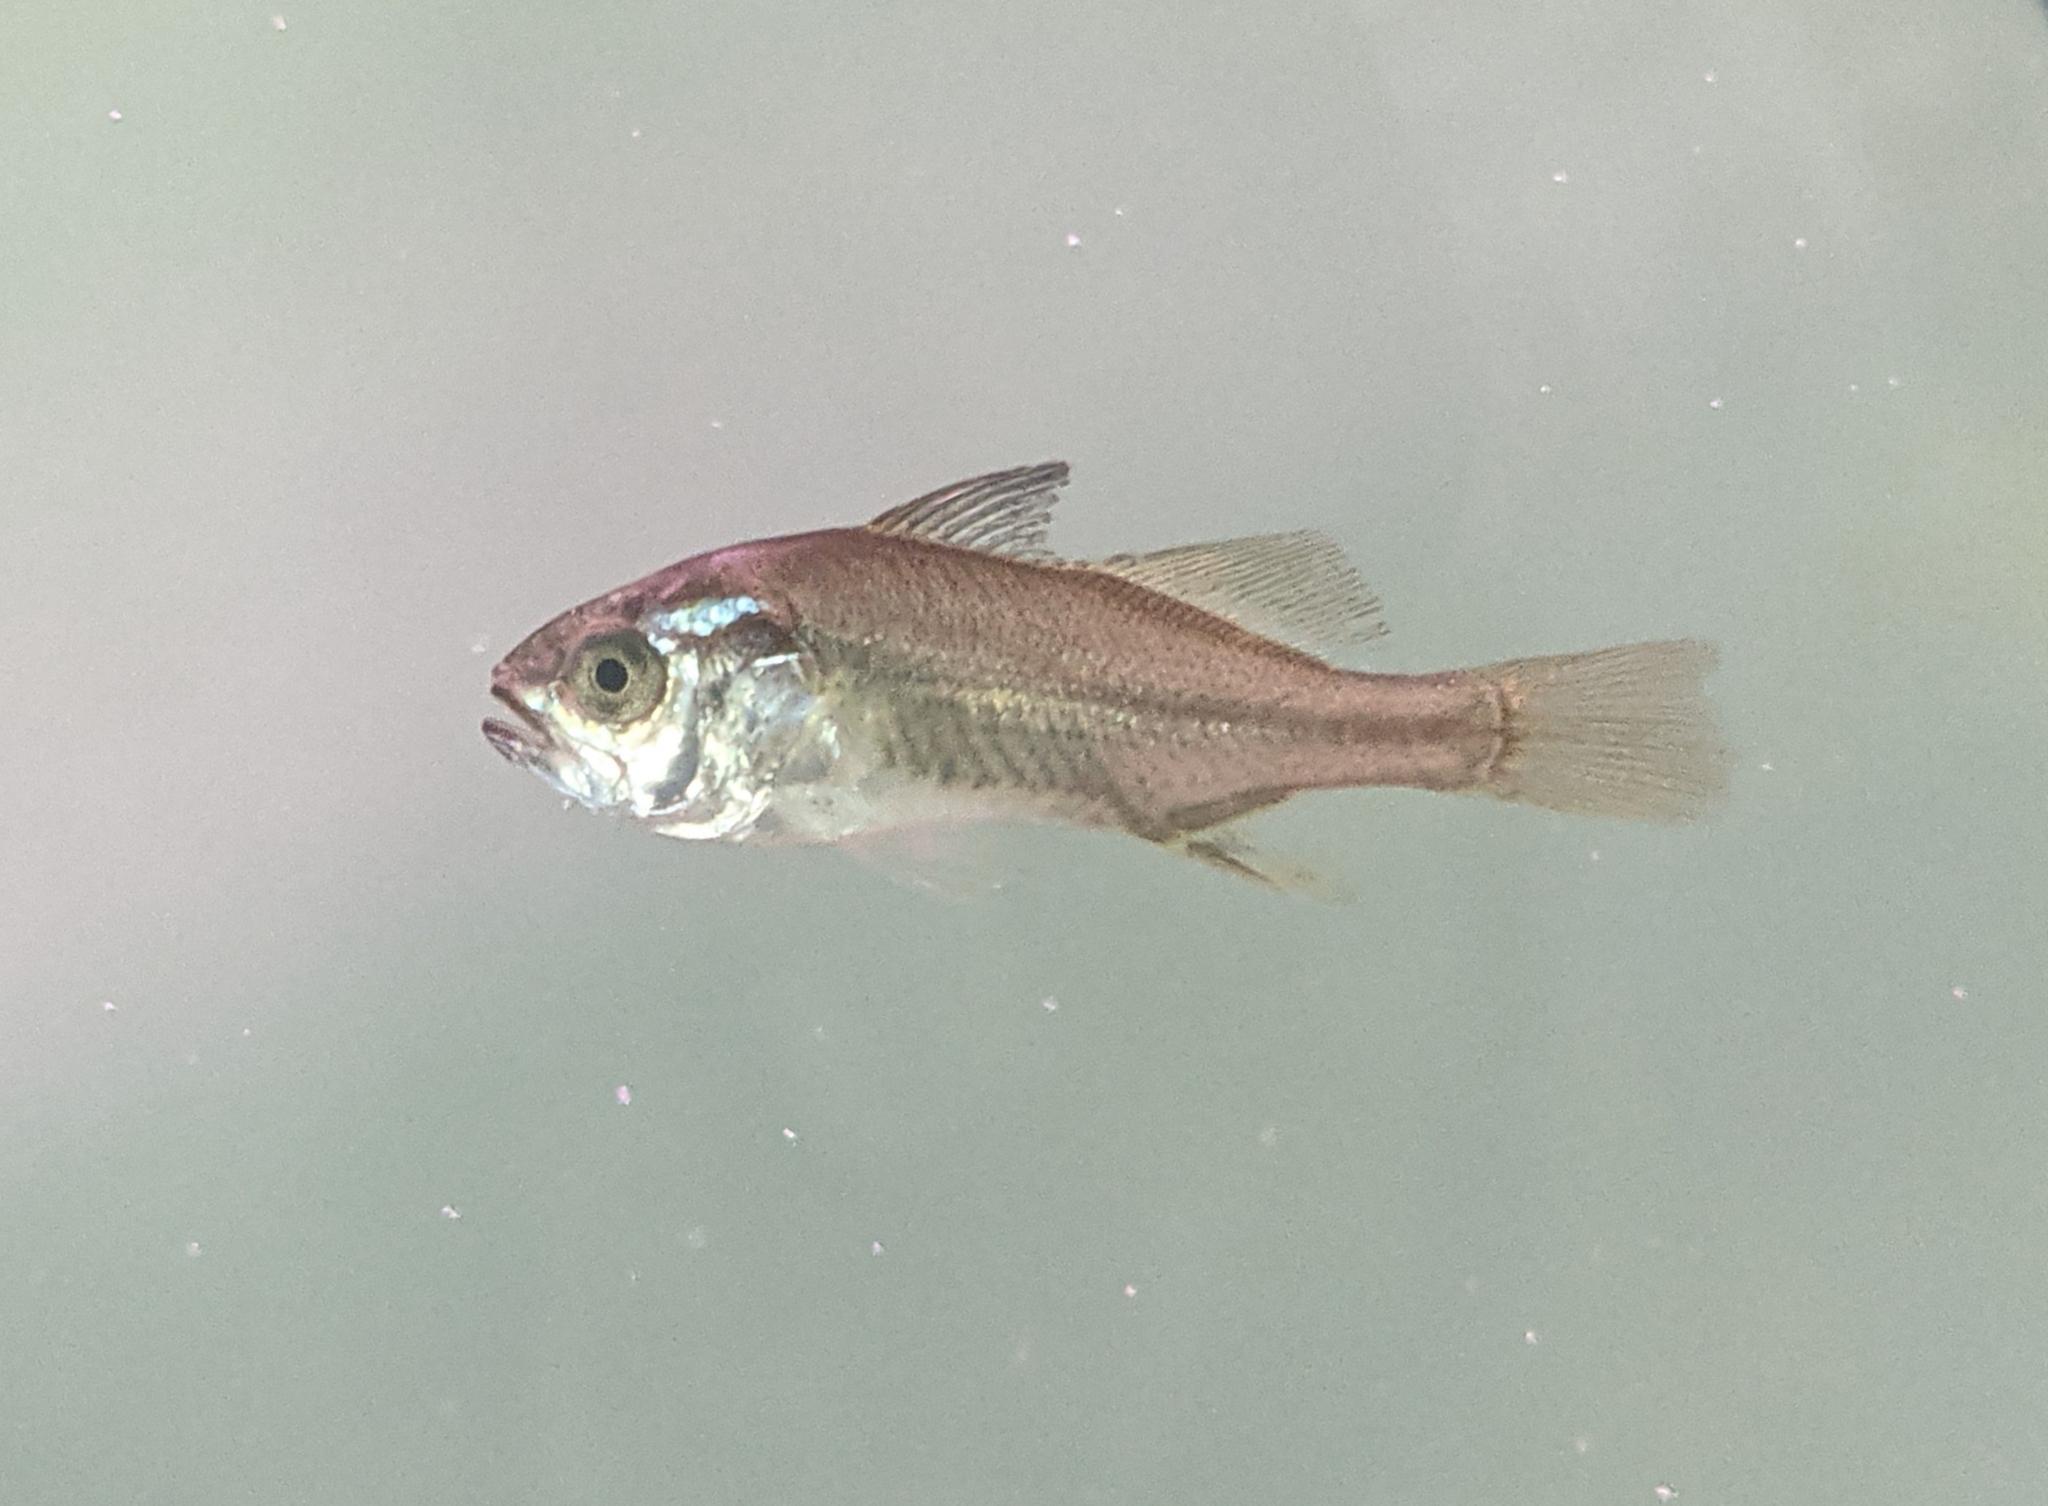Silver Perch: (482, 456, 1757, 924)
